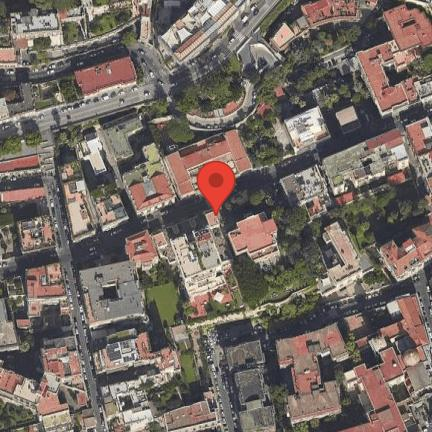area_open: (6, 304, 67, 377), (51, 28, 136, 60), (330, 269, 388, 304), (77, 235, 127, 267), (137, 43, 169, 89), (160, 212, 208, 237), (157, 0, 196, 30), (357, 20, 388, 52), (34, 129, 56, 169), (360, 298, 386, 331), (215, 319, 249, 340), (358, 104, 382, 133), (393, 382, 410, 405), (385, 64, 406, 82)
built: (336, 294, 432, 432), (123, 212, 235, 316), (1, 0, 151, 64), (0, 333, 95, 432), (94, 329, 179, 432), (357, 2, 432, 117), (276, 321, 350, 426), (58, 134, 125, 246), (163, 126, 255, 199), (159, 0, 258, 64), (325, 126, 409, 194), (268, 0, 377, 52), (377, 190, 432, 283), (314, 220, 375, 298), (78, 260, 145, 330), (123, 143, 180, 214), (278, 163, 337, 227), (17, 260, 71, 327), (72, 56, 140, 101), (230, 214, 280, 268), (235, 370, 274, 432), (405, 116, 432, 205), (163, 391, 220, 432), (188, 83, 250, 119), (289, 106, 335, 153), (102, 109, 144, 159), (355, 169, 408, 205), (17, 215, 58, 258), (0, 80, 31, 124), (226, 338, 265, 372), (0, 151, 42, 181), (0, 300, 18, 353), (0, 185, 47, 205), (336, 104, 359, 128), (345, 312, 367, 332), (151, 115, 176, 129), (254, 100, 272, 118), (335, 193, 355, 208), (272, 82, 287, 99)
vegetation_high: (223, 186, 324, 310), (255, 27, 364, 107), (169, 55, 242, 141), (273, 376, 353, 432), (255, 293, 320, 328), (245, 117, 293, 163), (1, 398, 33, 430), (23, 3, 77, 12), (414, 47, 432, 74)
vegetation_low: (144, 266, 201, 415), (336, 179, 424, 250), (287, 66, 370, 107), (0, 200, 48, 253), (31, 71, 79, 110), (58, 116, 94, 164), (0, 127, 39, 155)
